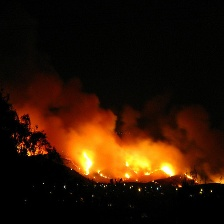fire: (69, 149, 189, 192)
smoke: (37, 100, 200, 158)
